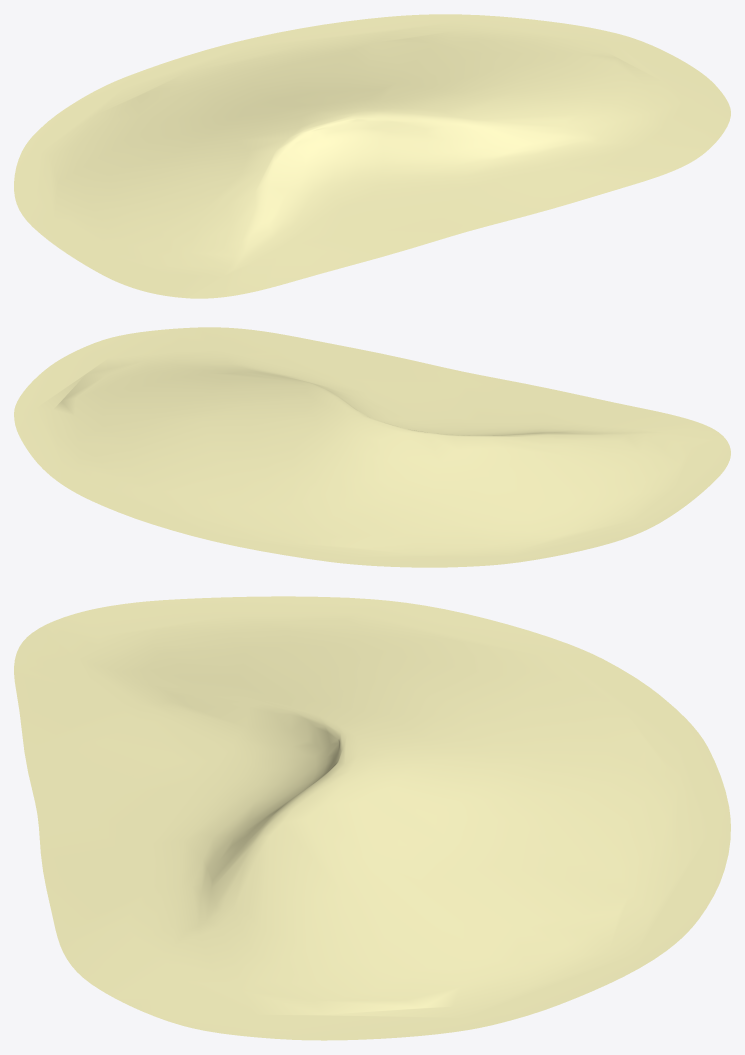
Rendered from Sand_002.glb.
3 views of the same model, one above another, from view 1: azimuth 30°, elevation 25°; view 2: azimuth 150°, elevation 25°; view 3: azimuth 270°, elevation 25° (orthographic). The views are drawn at different scales.
Visible parts, largest first — view 1: Sand_002; view 2: Sand_002; view 3: Sand_002.
Part boxes in pixels (box(x1,y1,x2,y2)): Sand_002: box(14, 14, 730, 298); Sand_002: box(14, 327, 730, 567); Sand_002: box(14, 596, 730, 1040).
Bounding box in the file's own units: 6.54 × 0.3383 × 4.47.
1 material, 1 textured.
